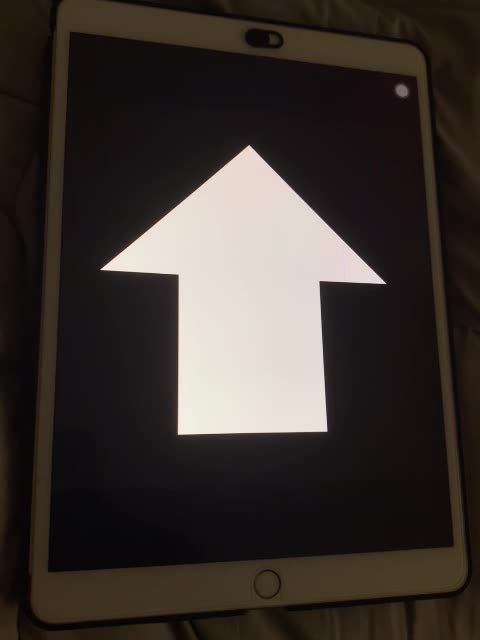up: (101, 142, 388, 439)
